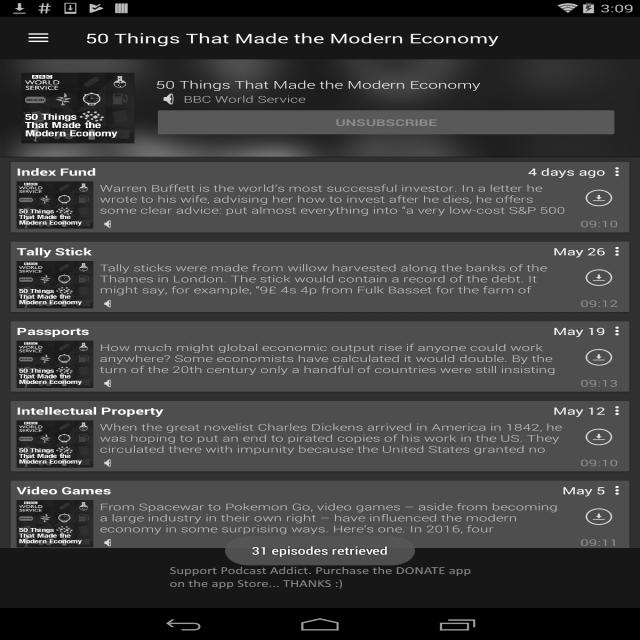Button: (149, 105, 626, 142)
ImageButton: (17, 28, 62, 50)
ImageView: (25, 72, 138, 141), (19, 419, 95, 466), (18, 339, 90, 386), (15, 499, 90, 544), (20, 180, 90, 226), (21, 261, 93, 305)
TextView: (100, 340, 564, 383), (102, 182, 570, 218), (102, 421, 563, 454), (103, 260, 540, 294), (101, 504, 560, 536), (80, 29, 510, 52), (155, 74, 492, 93), (245, 541, 396, 558)
